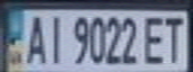0: (87, 12, 106, 65)
2: (121, 12, 142, 65), (103, 12, 124, 65)
9: (66, 11, 90, 65)
A: (21, 11, 48, 65)
E: (139, 12, 169, 65)
I: (42, 11, 69, 65)
T: (160, 12, 190, 64)
